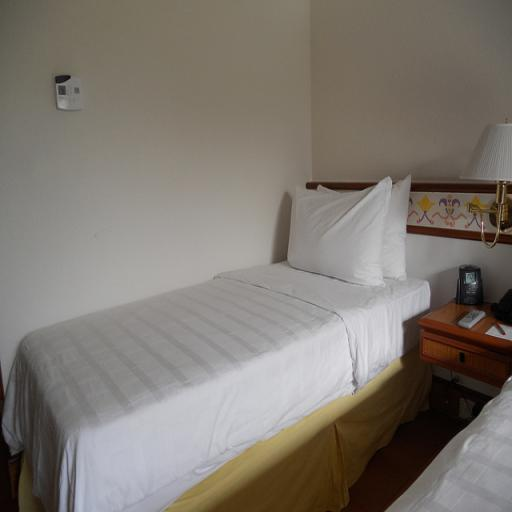bed: (20, 162, 452, 476)
